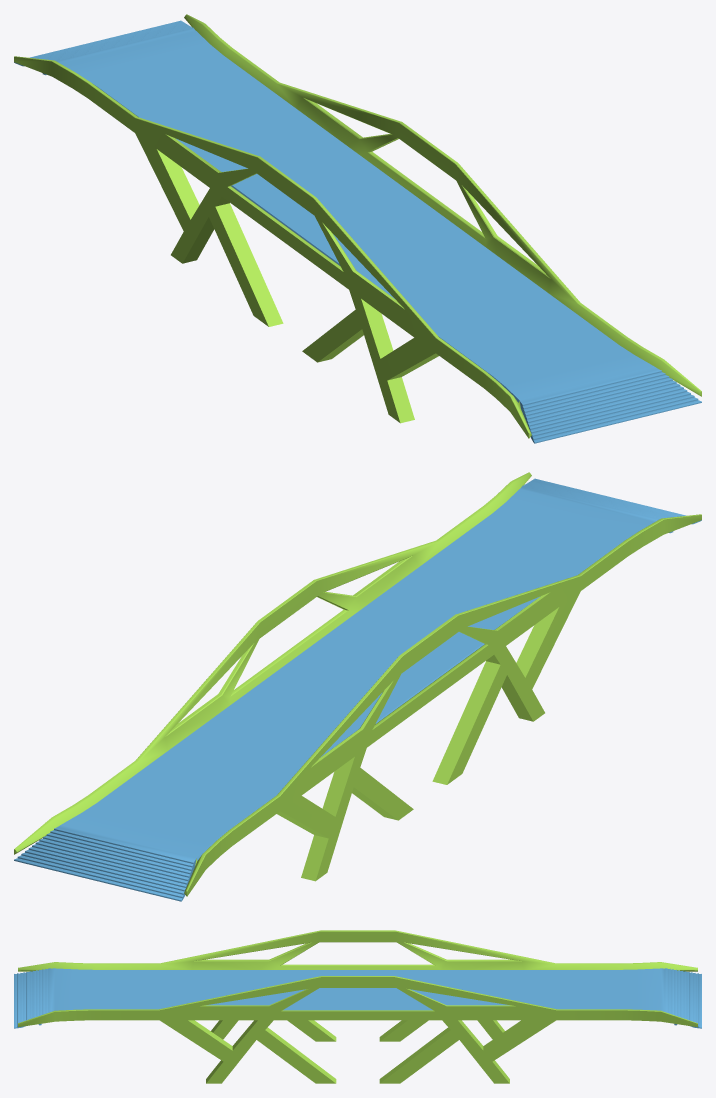
The model's file is Lb_Bridge.fbx.
3 views of the same model, one above another, from view 1: azimuth 30°, elevation 25°; view 2: azimuth 150°, elevation 25°; view 3: azimuth 270°, elevation 25° (orthographic). The views are drawn at different scales.
Visible parts, largest first — view 1: Lb_Bridge; view 2: Lb_Bridge; view 3: Lb_Bridge.
Boxes of the visible parts, x1,y1,x2,y2 form: Lb_Bridge: (14,14,701,443); Lb_Bridge: (14,472,701,901); Lb_Bridge: (14,930,701,1083).
Size of the model in its own units: 1225 by 1091 by 6375.
